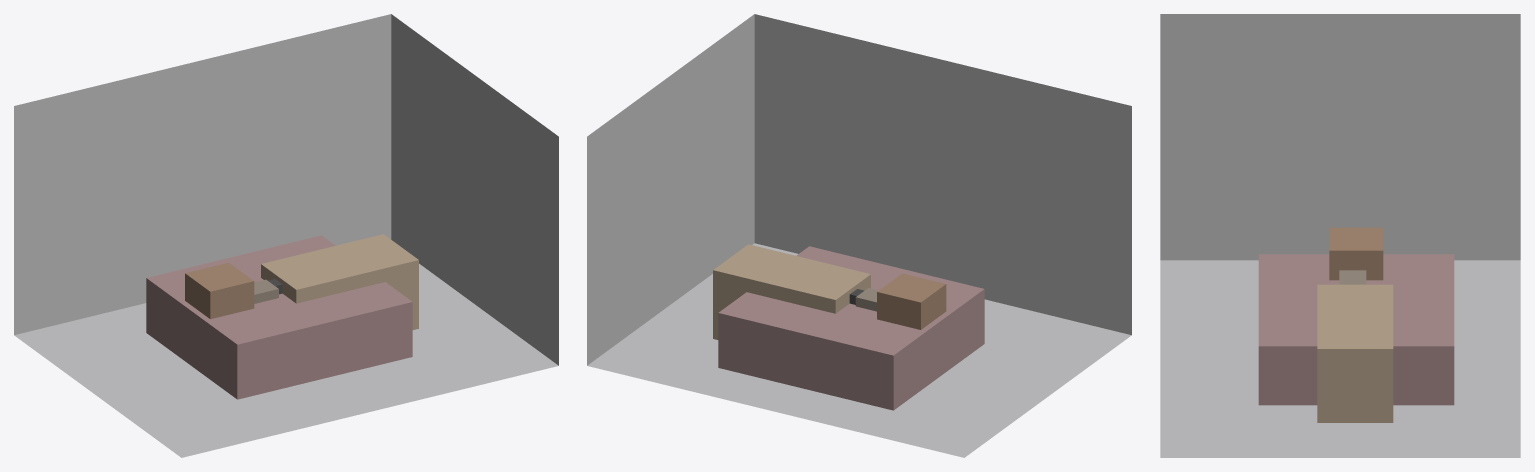
The model's file is optimised_layout.glb.
3 views of the same model, side by side, from view 1: azimuth 30°, elevation 25°; view 2: azimuth 150°, elevation 25°; view 3: azimuth 270°, elevation 25° (orthographic). The views are drawn at different scales.
Visible parts, largest first — view 1: room, bed, desk, chair; view 2: room, bed, desk, chair; view 3: room, bed, desk, chair, suitcase.
Part boxes in pixels (x1,y1,x2,y2): room: [14, 14, 558, 457]; bed: [146, 235, 412, 399]; desk: [261, 234, 418, 329]; chair: [185, 262, 254, 319]; room: [587, 14, 1131, 457]; bed: [718, 246, 984, 410]; desk: [713, 244, 870, 339]; chair: [877, 273, 946, 329]; room: [1160, 14, 1520, 457]; bed: [1258, 254, 1454, 405]; desk: [1317, 284, 1393, 422]; chair: [1329, 227, 1383, 280]; suitcase: [1339, 270, 1366, 284].
Bounding box in the file's own units: 4.31 × 2.5 × 3.31.
